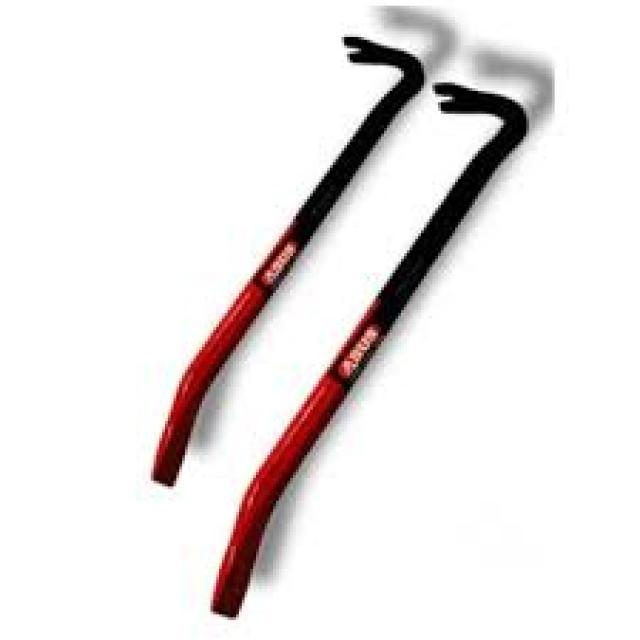Linggis: (162, 46, 568, 632), (68, 13, 462, 505)
